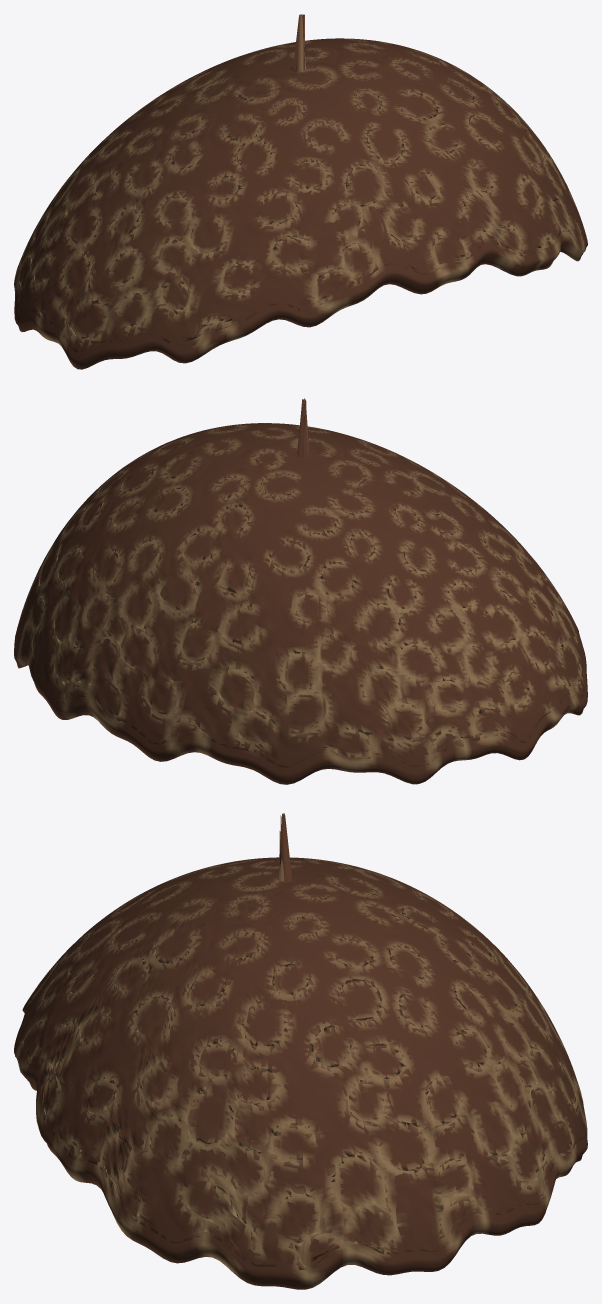
The model's file is Highlights-a175682a2302251-hair.glb.
The picture shows the model from 3 angles, top to bottom: view 1: azimuth 30°, elevation 25°; view 2: azimuth 150°, elevation 25°; view 3: azimuth 270°, elevation 25°; orthographic projection. The views are drawn at different scales.
Parts seen in each view (by area): view 1: 226 hair / Hair / sculpted afro251; view 2: 226 hair / Hair / sculpted afro251; view 3: 226 hair / Hair / sculpted afro251.
Boxes of the visible parts, x1,y1,x2,y2 form: 226 hair / Hair / sculpted afro251: (14,14,587,369); 226 hair / Hair / sculpted afro251: (14,398,587,784); 226 hair / Hair / sculpted afro251: (14,813,587,1289).
Size of the model in its own units: 0.9425 by 0.4808 by 0.7564.
